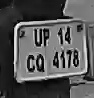1: (56, 27, 65, 47), (59, 51, 67, 72)
4: (63, 26, 73, 46), (52, 50, 61, 71)
7: (66, 49, 72, 69)
8: (73, 48, 80, 69)
C: (23, 54, 36, 74)
P: (41, 28, 50, 47)
Q: (33, 51, 48, 73)
U: (33, 27, 43, 49)
